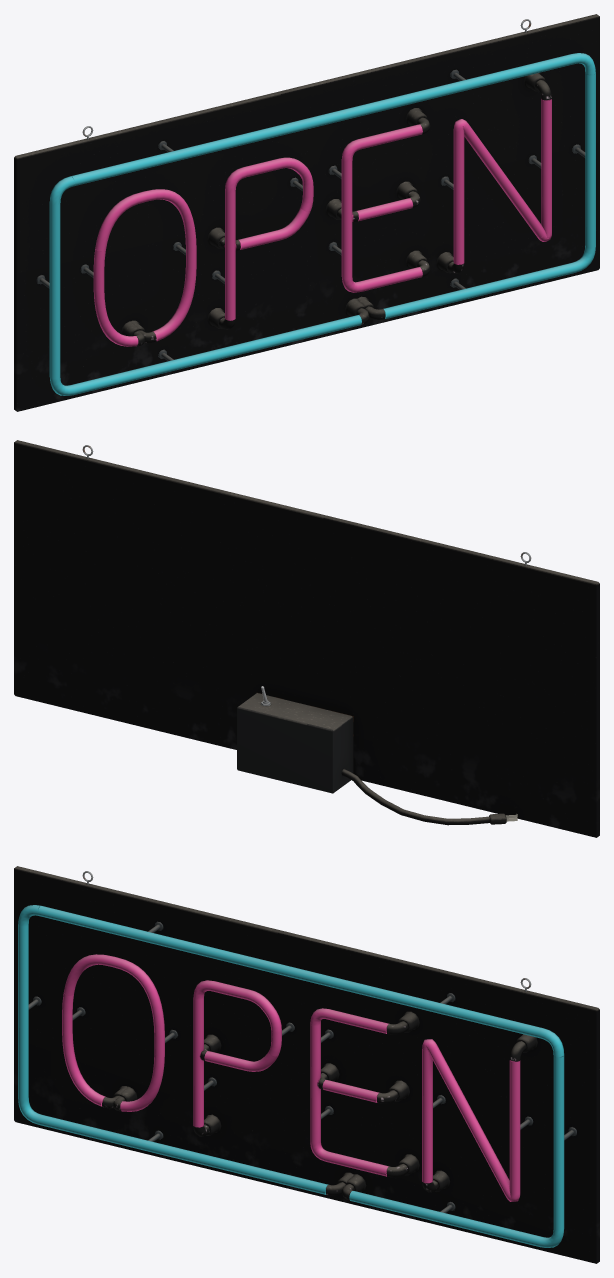
File: NeonSign.fbx
3 renders of one model, top to bottom at view 1: azimuth 30°, elevation 25°; view 2: azimuth 150°, elevation 25°; view 3: azimuth 330°, elevation 25°, orthographic.
Visible parts, largest first — view 1: NeonSign_Backing, NeonSign_Tubes; view 2: NeonSign_Backing; view 3: NeonSign_Backing, NeonSign_Tubes.
Part boxes in pixels (left/top/right/bottom): NeonSign_Backing: left=14, top=14, right=599, bottom=411; NeonSign_Tubes: left=49, top=53, right=595, bottom=395; NeonSign_Backing: left=14, top=440, right=599, bottom=837; NeonSign_Backing: left=14, top=866, right=599, bottom=1263; NeonSign_Tubes: left=18, top=905, right=564, bottom=1247.
Bounding box in the file's own units: 2.4 × 1.05 × 0.3375.
1 material, 1 textured.
